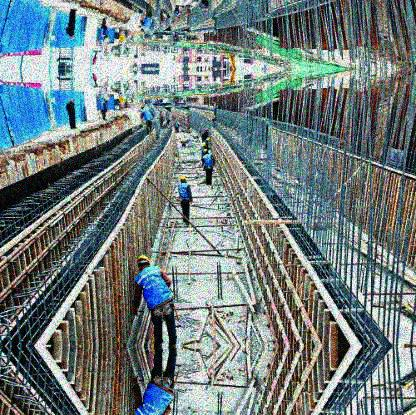helmet: (135, 255, 151, 268), (104, 95, 110, 102), (139, 29, 145, 35), (180, 175, 185, 182), (204, 148, 208, 155), (70, 99, 74, 105), (141, 104, 145, 109), (70, 34, 74, 39)
